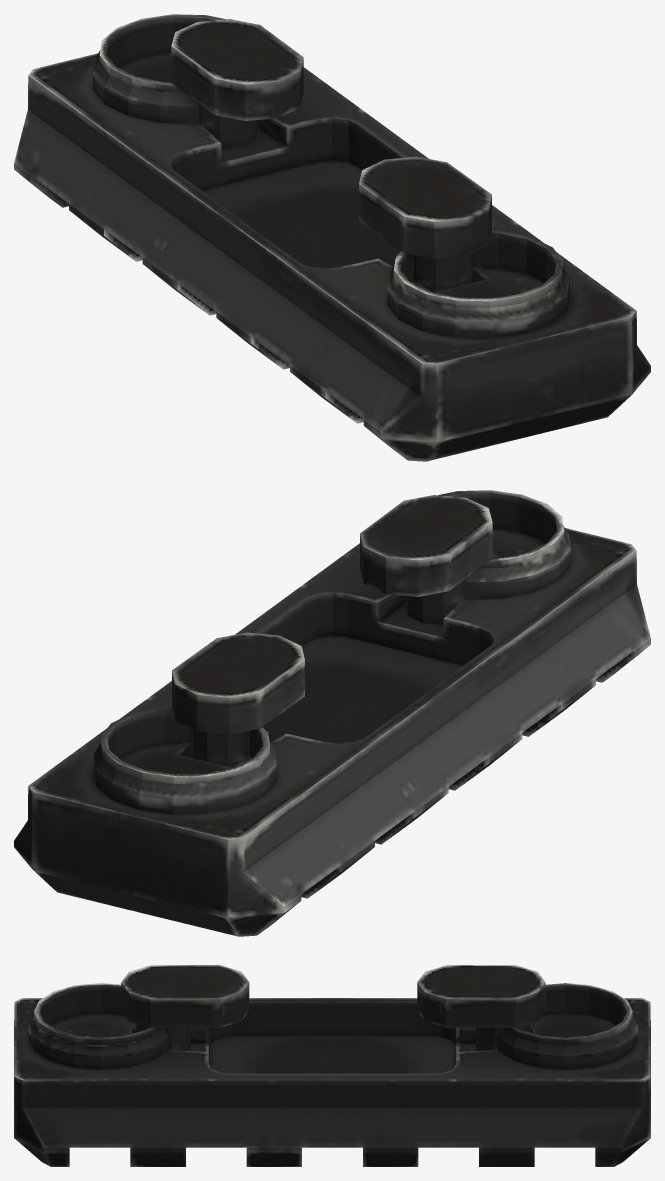
3 renders of one model, top to bottom at view 1: azimuth 30°, elevation 25°; view 2: azimuth 150°, elevation 25°; view 3: azimuth 270°, elevation 25°, orthographic. The views are drawn at different scales.
Visible parts, largest first — view 1: TW_5b4736a986f774040571e998_PZ_Import; view 2: TW_5b4736a986f774040571e998_PZ_Import; view 3: TW_5b4736a986f774040571e998_PZ_Import.
Boxes of the visible parts, x1=… form: TW_5b4736a986f774040571e998_PZ_Import: x1=14, y1=14, x2=650, y2=461; TW_5b4736a986f774040571e998_PZ_Import: x1=14, y1=490, x2=650, y2=936; TW_5b4736a986f774040571e998_PZ_Import: x1=14, y1=965, x2=650, y2=1166.
Bounding box in the file's own units: 0.0123 × 0.0317 × 0.00794.
1 material, 1 textured.
